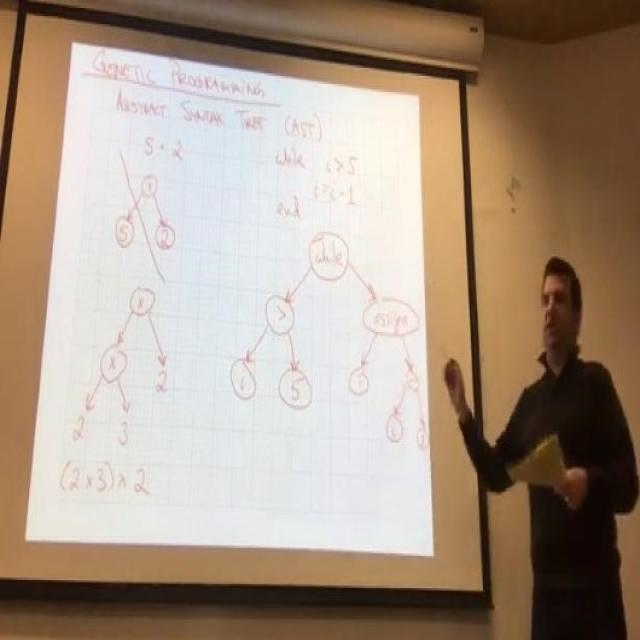Instructor: (511, 252, 636, 637)
Slide: (29, 39, 433, 555)
